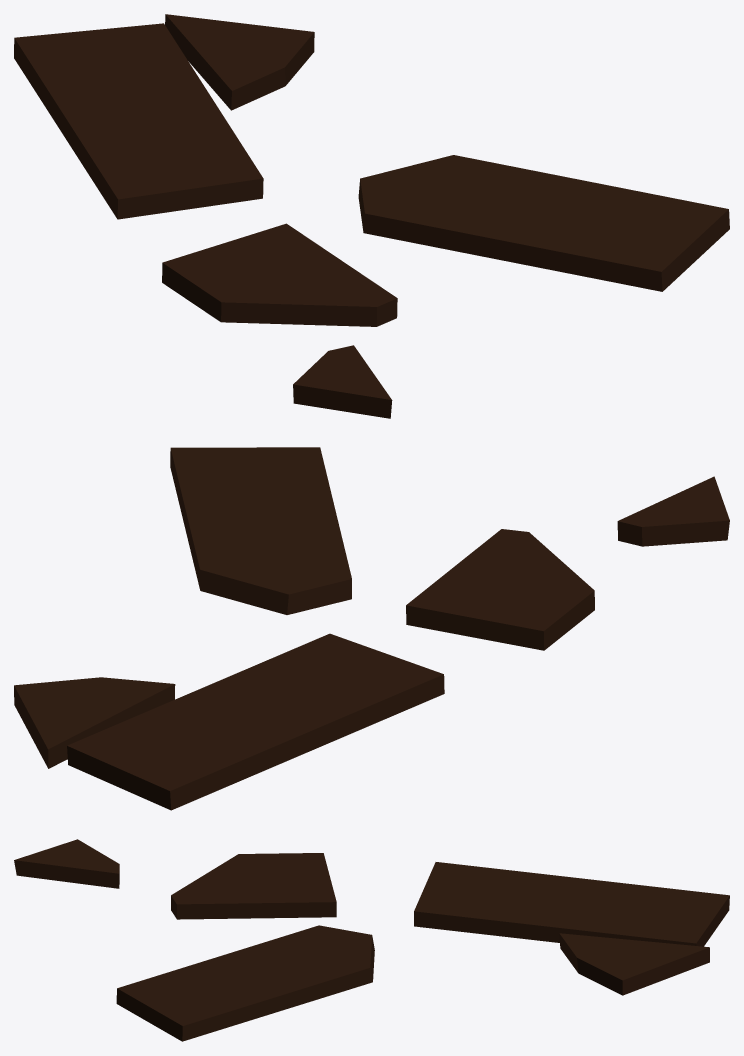
The model's file is P_DebrisPlanchePetit.FBX.
The picture shows the model from 3 angles, top to bottom: view 1: azimuth 30°, elevation 25°; view 2: azimuth 150°, elevation 25°; view 3: azimuth 270°, elevation 25°; orthographic projection. The views are drawn at different scales.
Visible parts, largest first — view 1: Box008_Part_5; view 2: Box008_Part_5; view 3: Box008_Part_5.
Boxes of the visible parts, <box> form: Box008_Part_5: <box>14,14,729,418</box>; Box008_Part_5: <box>14,447,729,810</box>; Box008_Part_5: <box>14,839,729,1041</box>.
Size of the model in its own units: 79.56 by 4.04 by 128.
